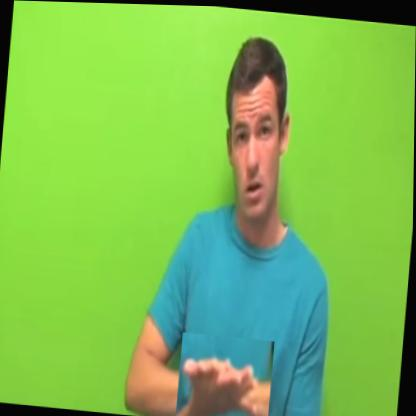NiceToMeetYou: (176, 331, 275, 416)
